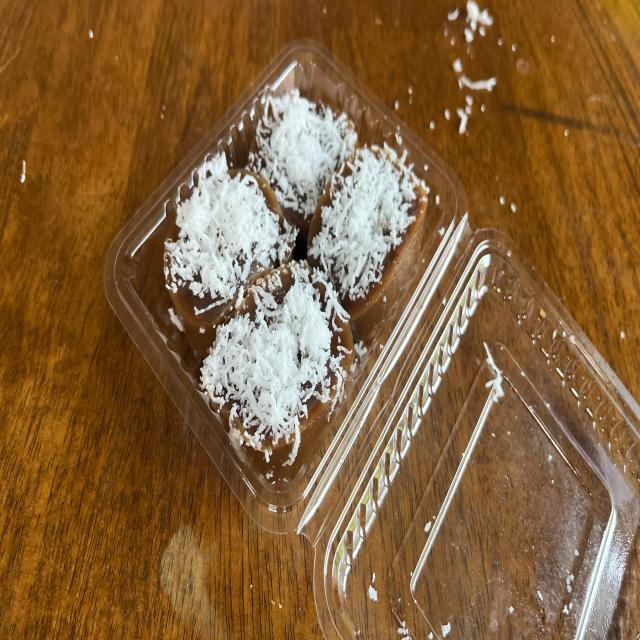Kuih lompang: (201, 262, 355, 478), (164, 153, 295, 356), (308, 144, 428, 342), (249, 89, 358, 220)
